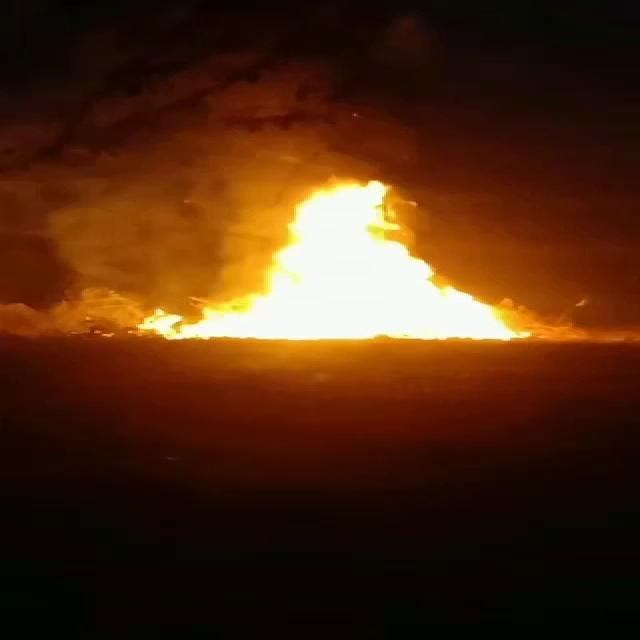Fire: (180, 185, 508, 341)
